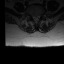CCS_normal: (35, 13, 37, 23)
LFS_severe_stenosis: (39, 13, 42, 19)
LLS_normal: (37, 13, 39, 22)
RFS_severe_stenosis: (30, 13, 32, 20)
RLS_normal: (32, 14, 35, 22)
